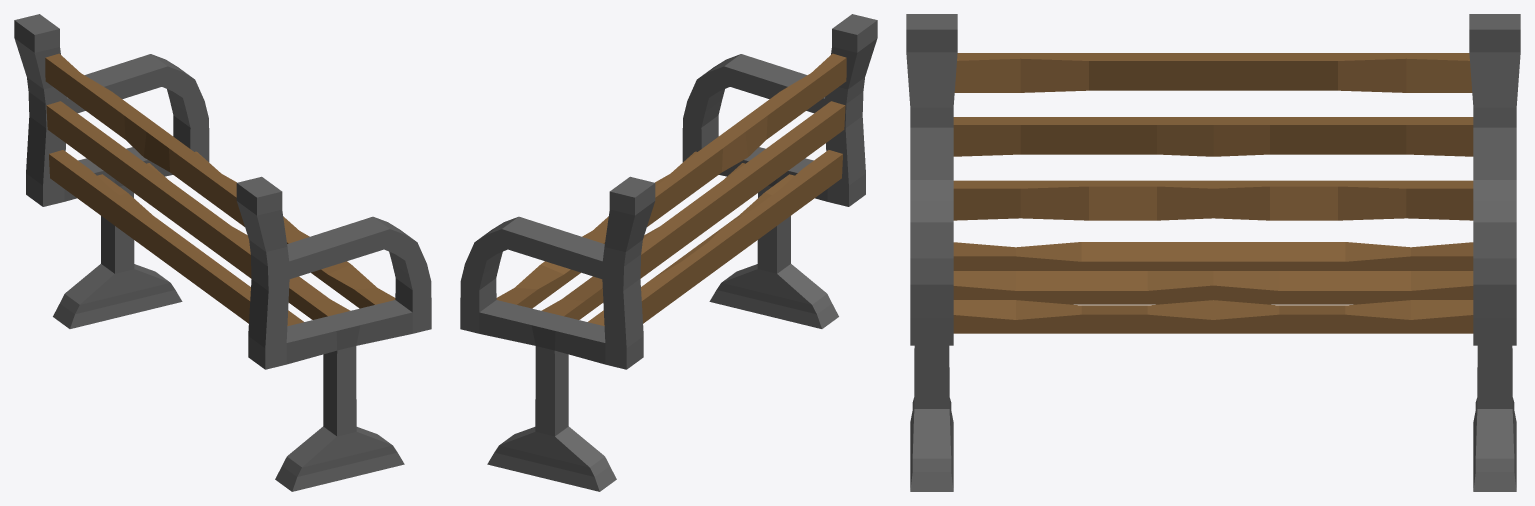
File: bench_city_oldenburg.fbx
3 views of the same model, side by side, from view 1: azimuth 30°, elevation 25°; view 2: azimuth 150°, elevation 25°; view 3: azimuth 270°, elevation 25° (orthographic). The views are drawn at different scales.
Parts seen in each view (by area): view 1: Cube.002; view 2: Cube.002; view 3: Cube.002.
Boxes of the visible parts, x1,y1,x2,y2 form: Cube.002: [14, 14, 431, 491]; Cube.002: [460, 14, 877, 491]; Cube.002: [906, 14, 1520, 491].
Size of the model in its own units: 129 by 213 by 307.
